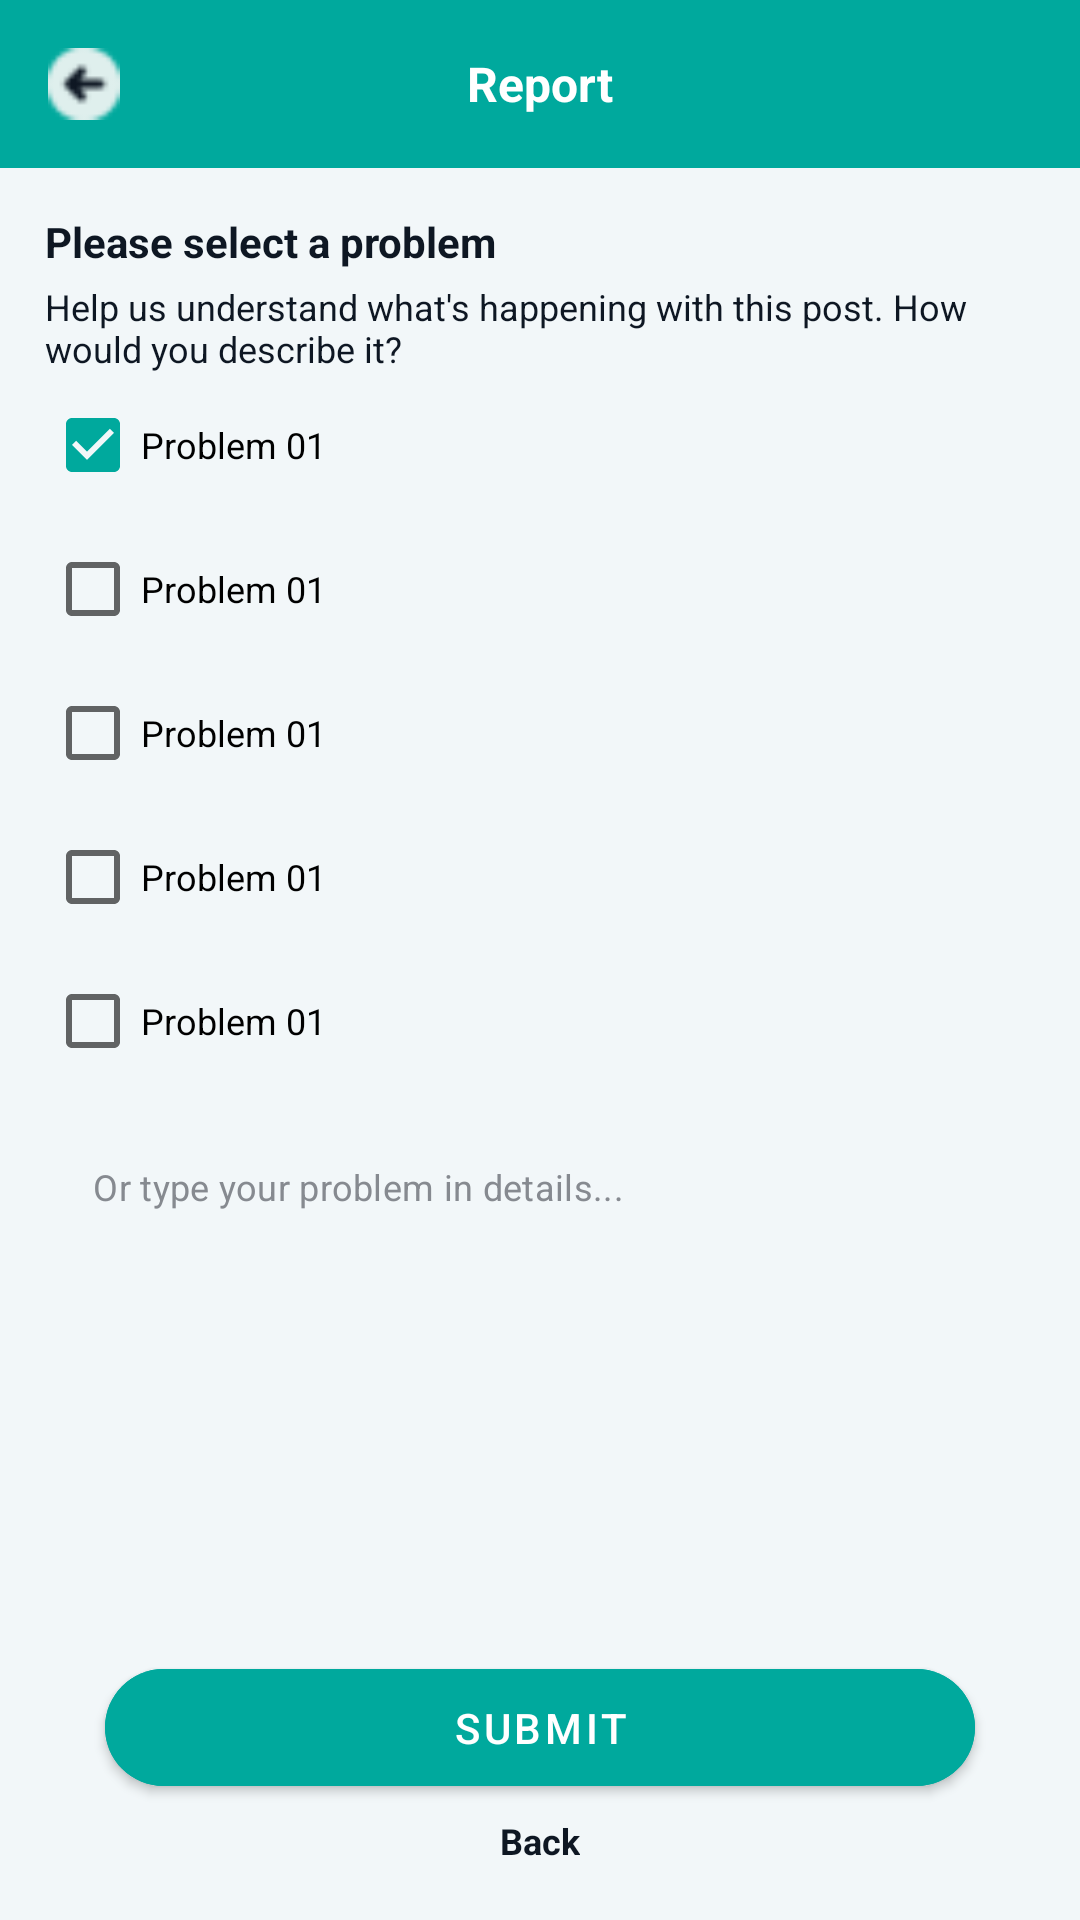

Named icons in this screenshot (1080w x 1920h) and their centers, (x,y):
previous: (84,84)
